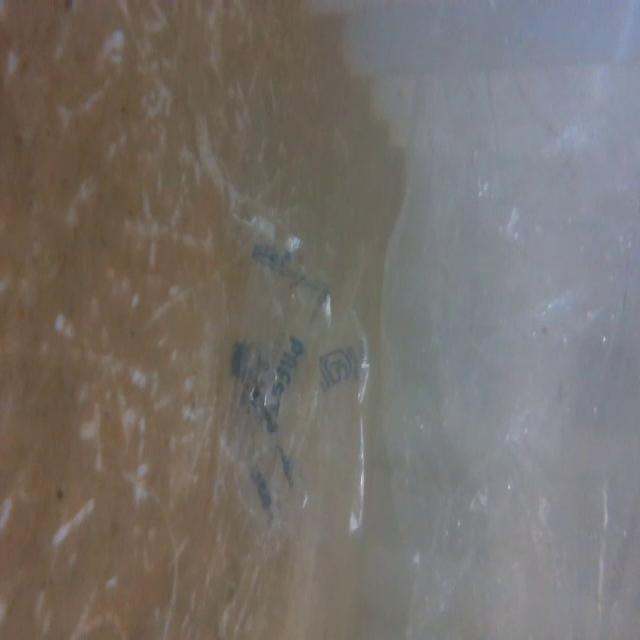plastic bags: (439, 124, 639, 640), (211, 205, 381, 548)
